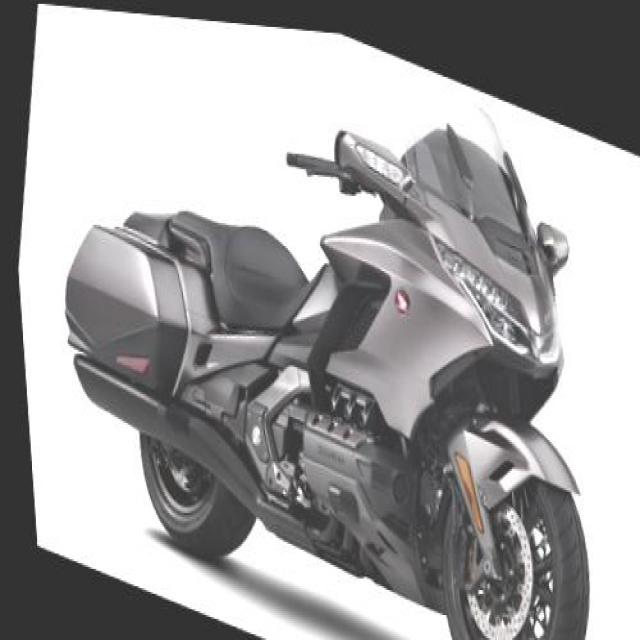Gold Wing: (10, 0, 639, 638)
